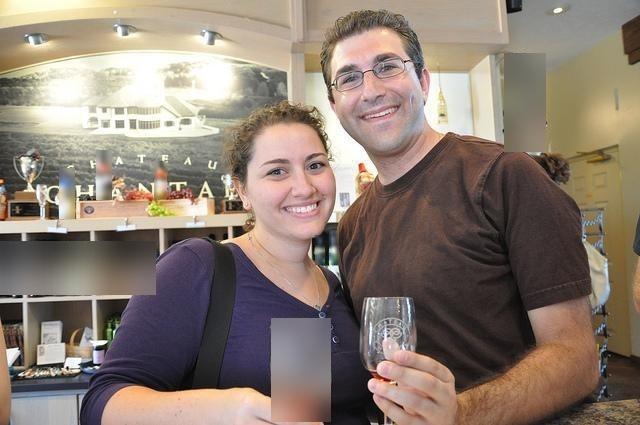glass-wine: (359, 294, 417, 424)
